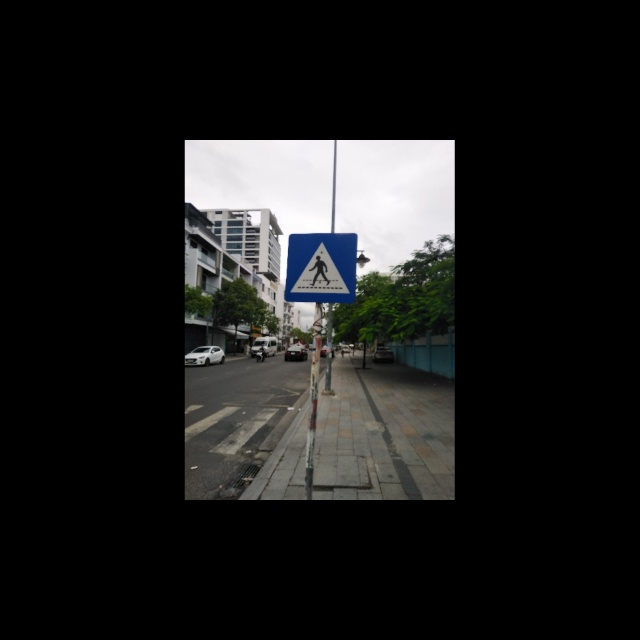Đường dành cho người đi bộ: (287, 231, 357, 304)
